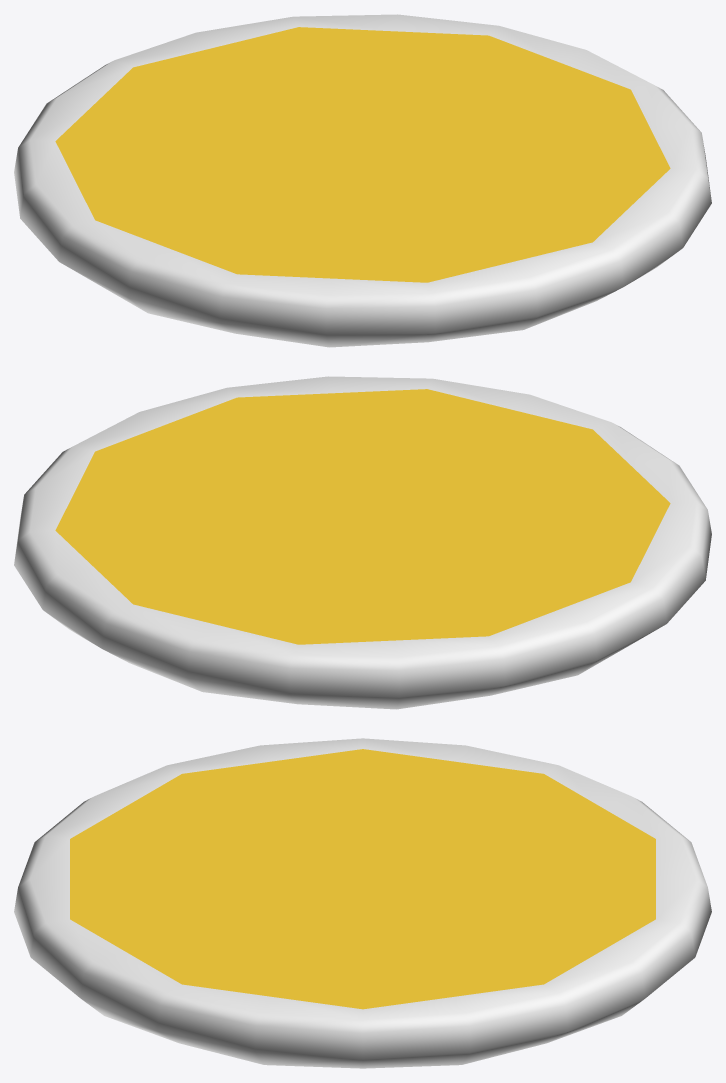
Rendered from geo_lemonfridgemagenet.fbx.
3 renders of one model, top to bottom at view 1: azimuth 30°, elevation 25°; view 2: azimuth 150°, elevation 25°; view 3: azimuth 270°, elevation 25°, orthographic.
Visible parts, largest first — view 1: pCylinder2; view 2: pCylinder2; view 3: pCylinder2.
Boxes of the visible parts, x1=… form: pCylinder2: x1=14, y1=14, x2=711, y2=347; pCylinder2: x1=14, y1=376, x2=711, y2=709; pCylinder2: x1=14, y1=738, x2=711, y2=1068.
Size of the model in its own units: 10.36 by 1.07 by 10.35.
1 material, 1 textured.
